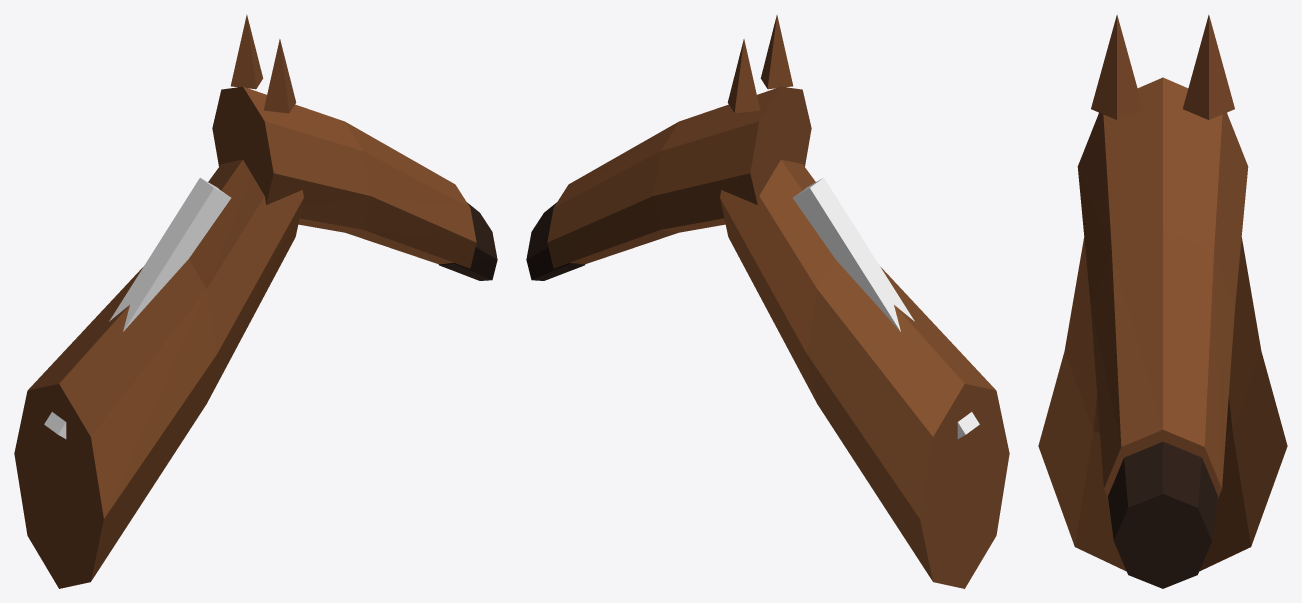
The model's file is carreta_head_overo.obj.
3 views of the same model, side by side, from view 1: azimuth 30°, elevation 25°; view 2: azimuth 150°, elevation 25°; view 3: azimuth 270°, elevation 25° (orthographic). The views are drawn at different scales.
Visible parts, largest first — view 1: carreta_head_overo; view 2: carreta_head_overo; view 3: carreta_head_overo.
Part boxes in pixels (x1=…): carreta_head_overo: x1=14, y1=14, x2=497, y2=588; carreta_head_overo: x1=526, y1=14, x2=1009, y2=588; carreta_head_overo: x1=1038, y1=14, x2=1287, y2=588.
Bounding box in the file's own units: 1.05 × 1.2 × 0.38.
